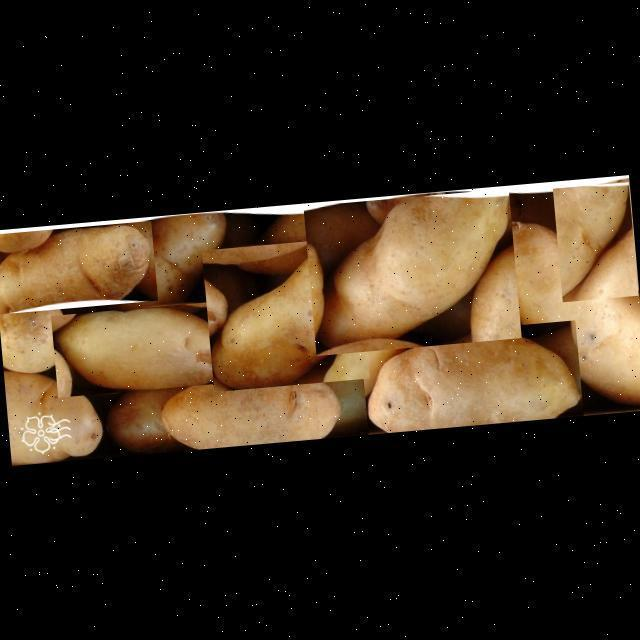potato: (303, 189, 521, 356), (498, 209, 640, 416), (202, 237, 370, 392), (360, 320, 584, 434), (68, 211, 242, 345), (51, 300, 233, 397), (156, 364, 341, 452), (0, 220, 157, 314), (552, 182, 638, 302), (0, 286, 71, 375)
